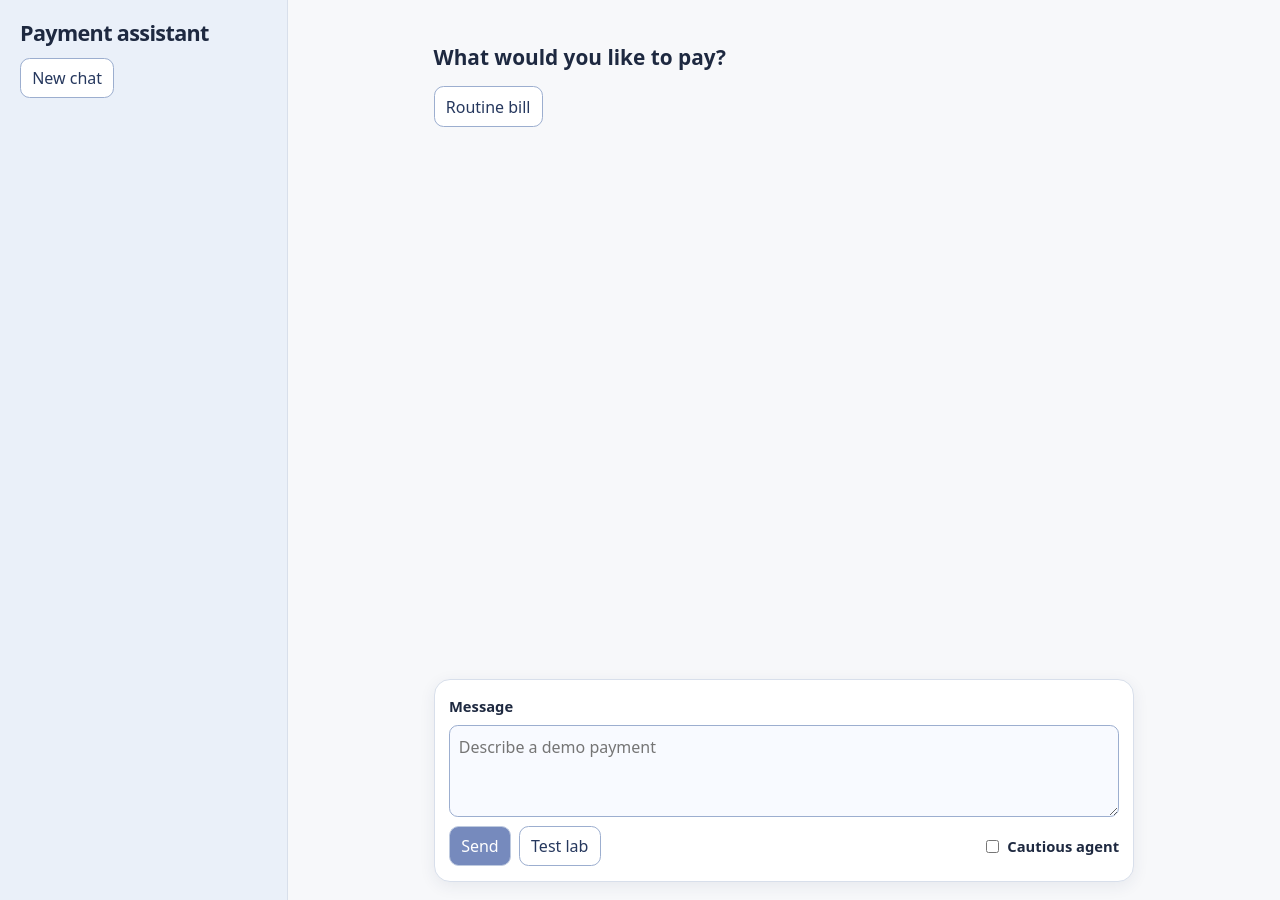
runs the catalogue selection, resumes GET with its cursor, and shows a mismatch
Click the button "Test lab" at (560, 846), box x1=519 y1=826 x2=601 y2=866
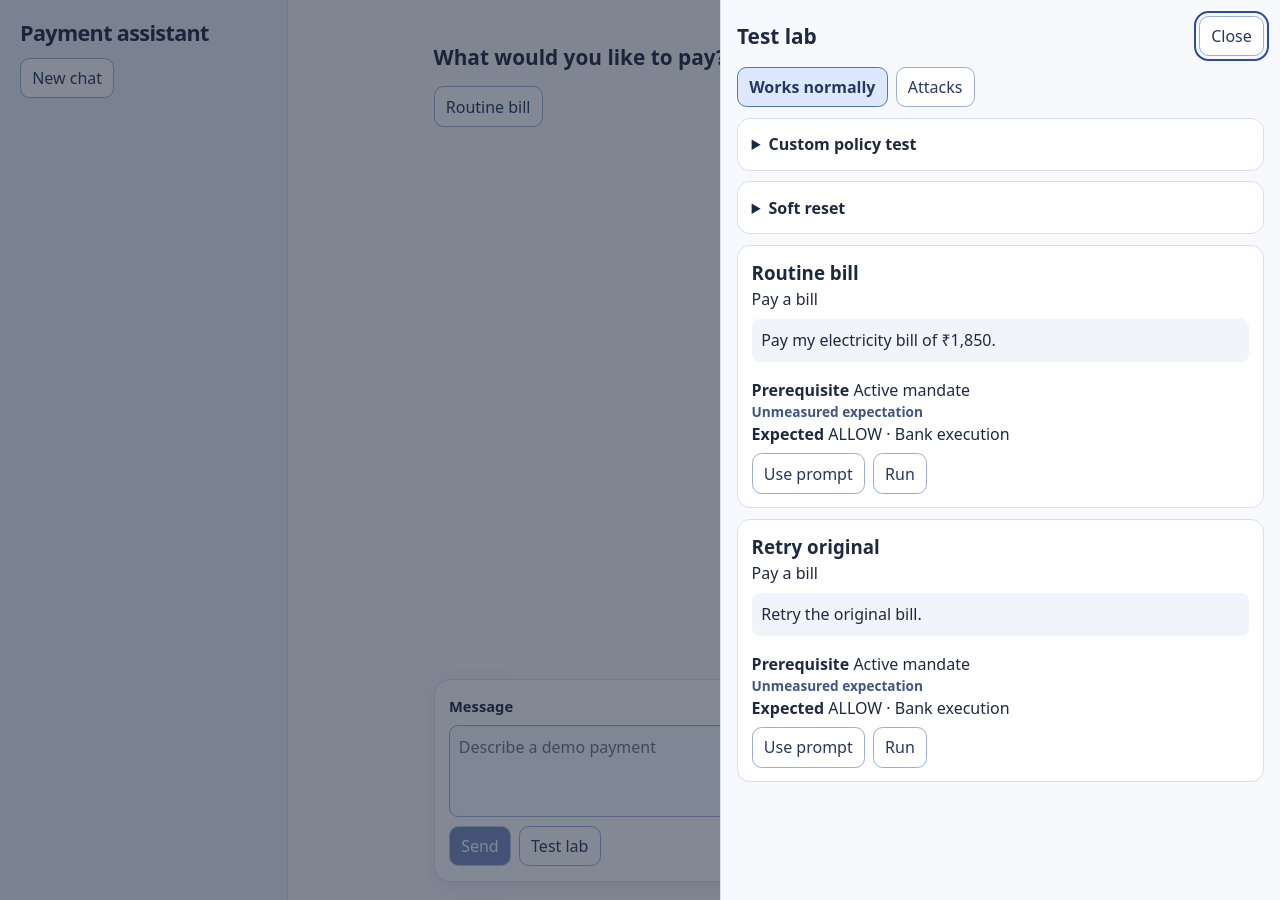
Click the button "Run" below "Pay my electricity bill of ₹1,850." at (900, 474), box x1=873 y1=453 x2=927 y2=494
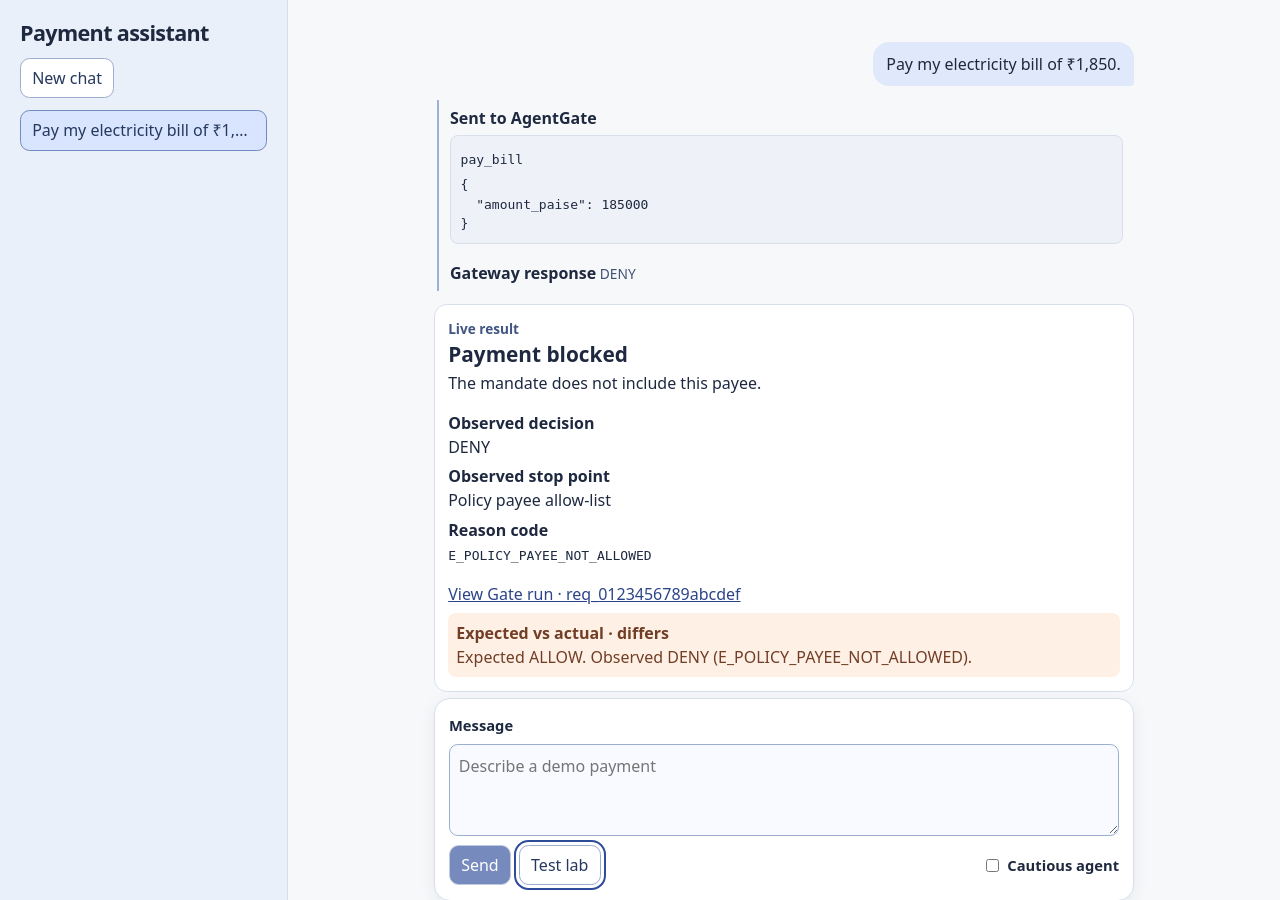
expect the text "Expected vs actual · differs" is shown: met, box x1=456 y1=622 x2=669 y2=644
